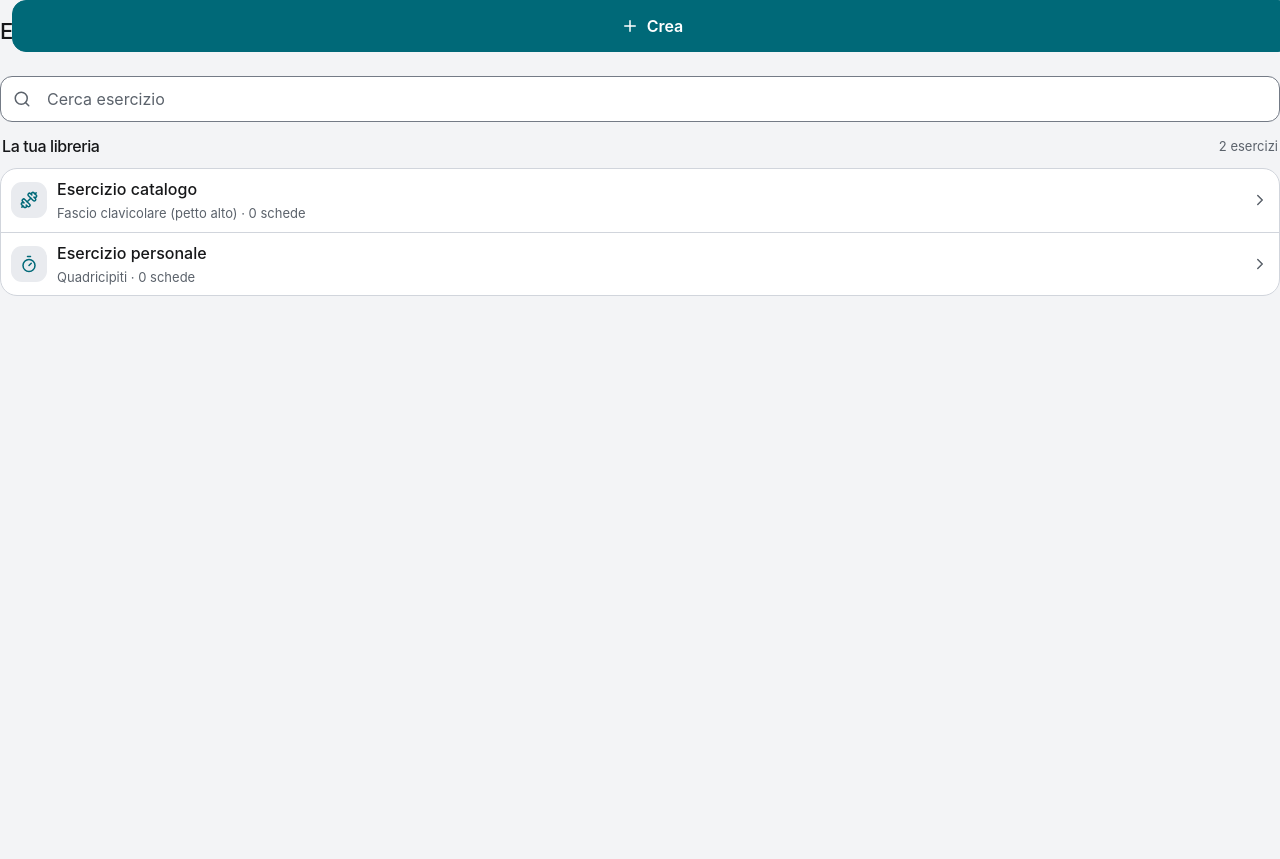
Test: TrainingExercises proposal 5 › opens and closes the dedicated detail view while preserving catalog action rules
Click the button with aria-label "Apri dettaglio di Esercizio catalogo".
click(29, 200)  # box [1, 169, 1279, 232]
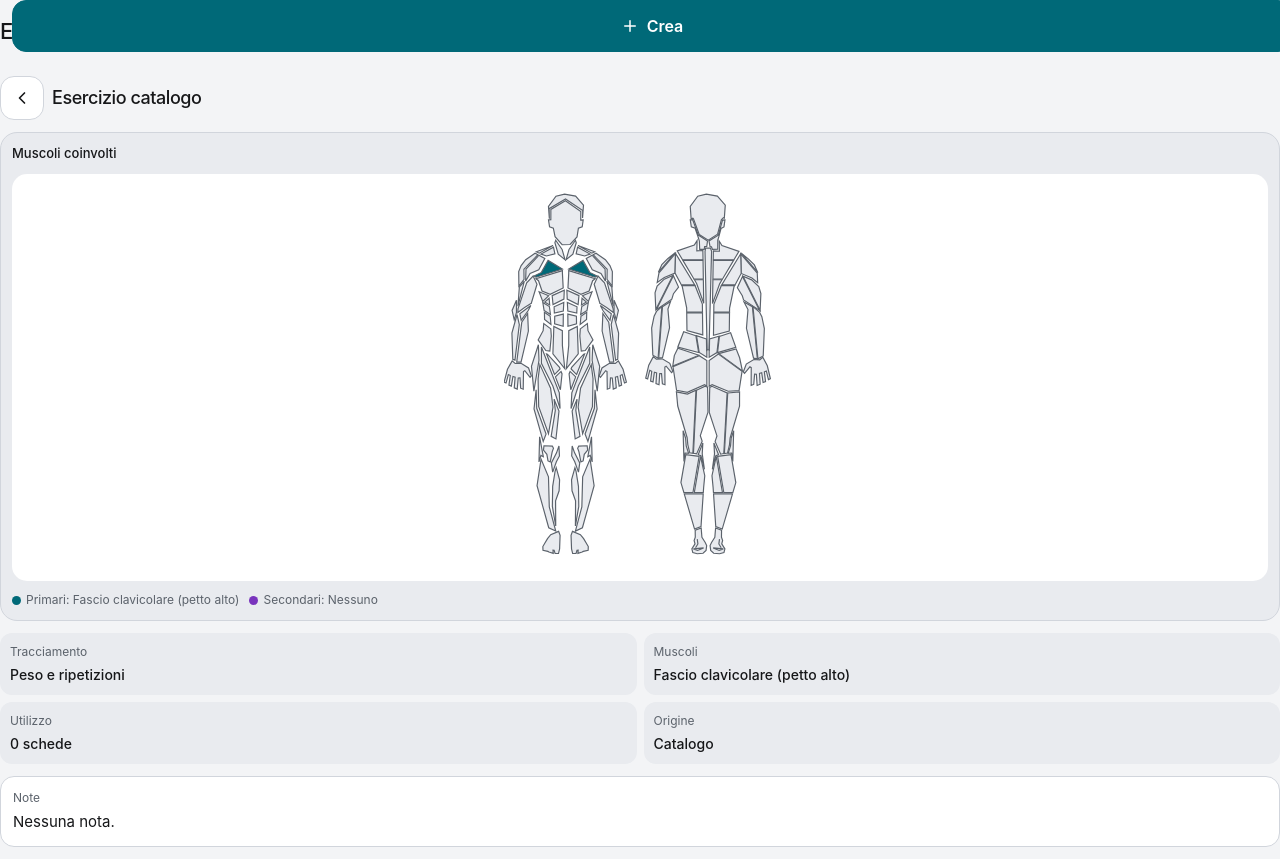
Expected: the button "Elimina" is not shown
Result: the text "Catalogo" is shown at [654, 735, 714, 752]
Click the button named "Torna all’elenco".
click(22, 98)  # box [0, 76, 44, 120]
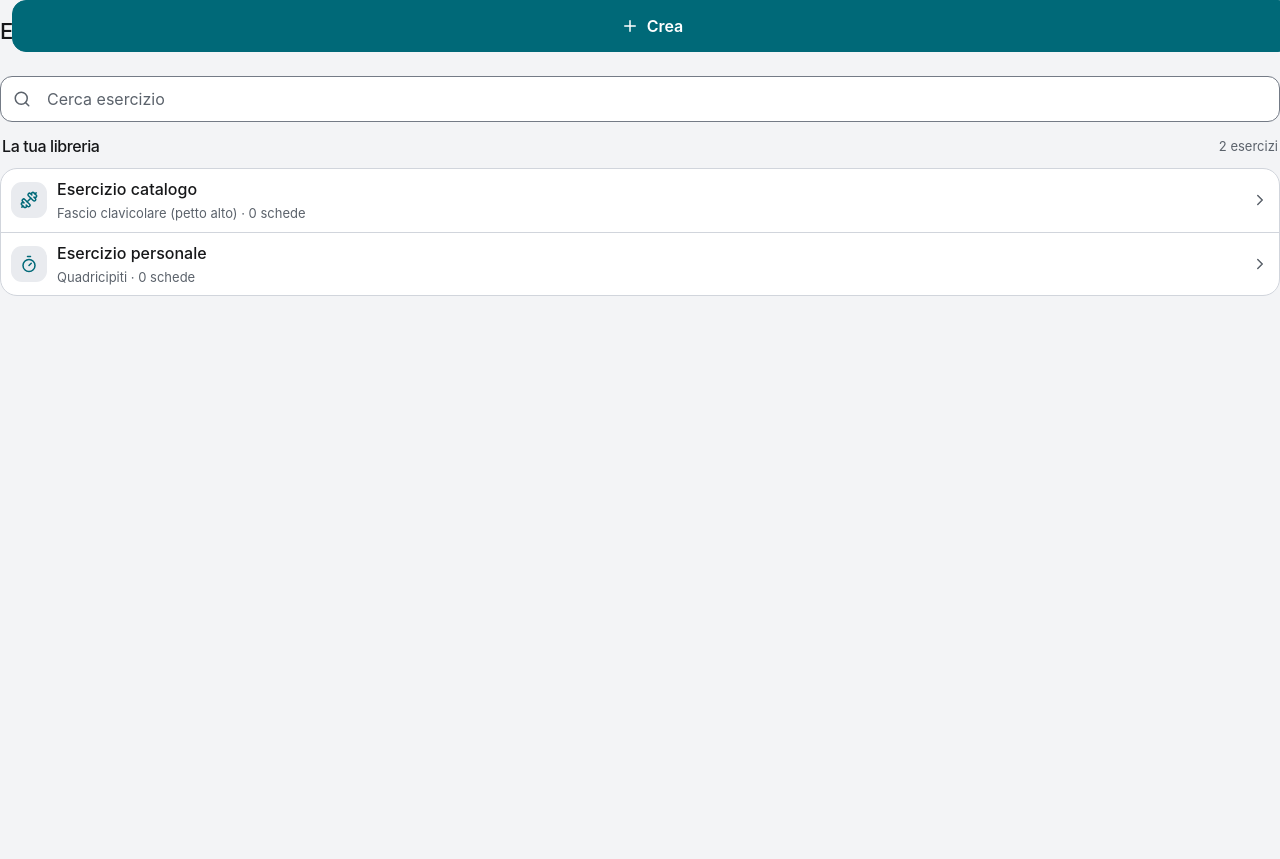
Click the button with aria-label "Apri dettaglio di Esercizio personale".
click(29, 264)  # box [1, 232, 1279, 295]
(page scrolled)
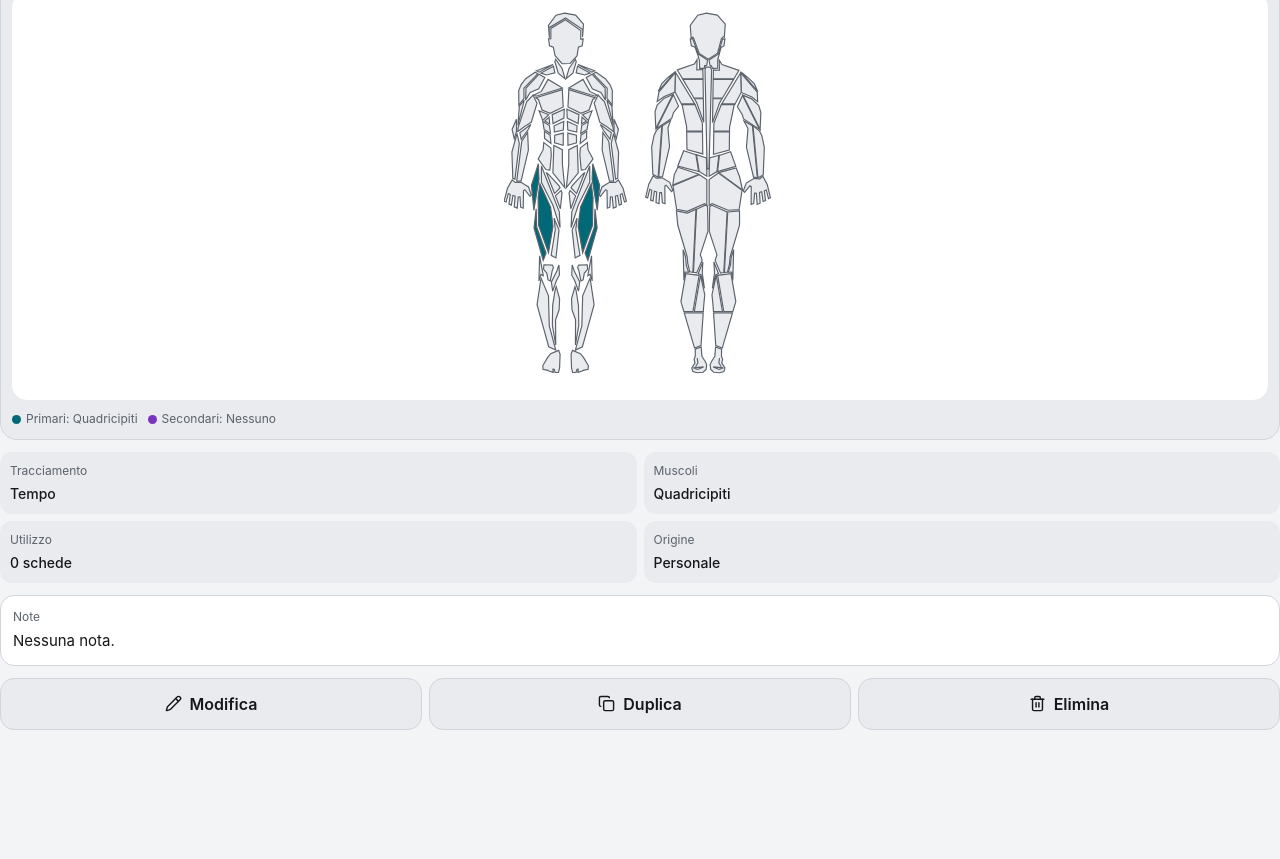
Result: the text "Personale" is shown at [654, 554, 720, 571]
Result: the button "Elimina" is shown at [858, 678, 1279, 730]
